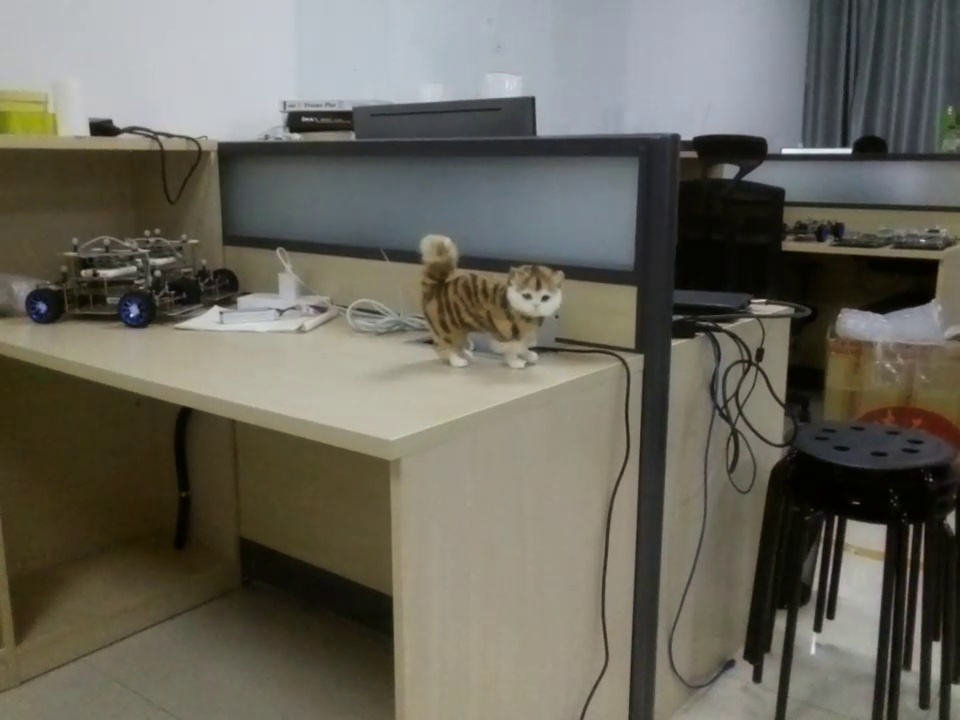cat: (405, 225, 579, 373)
